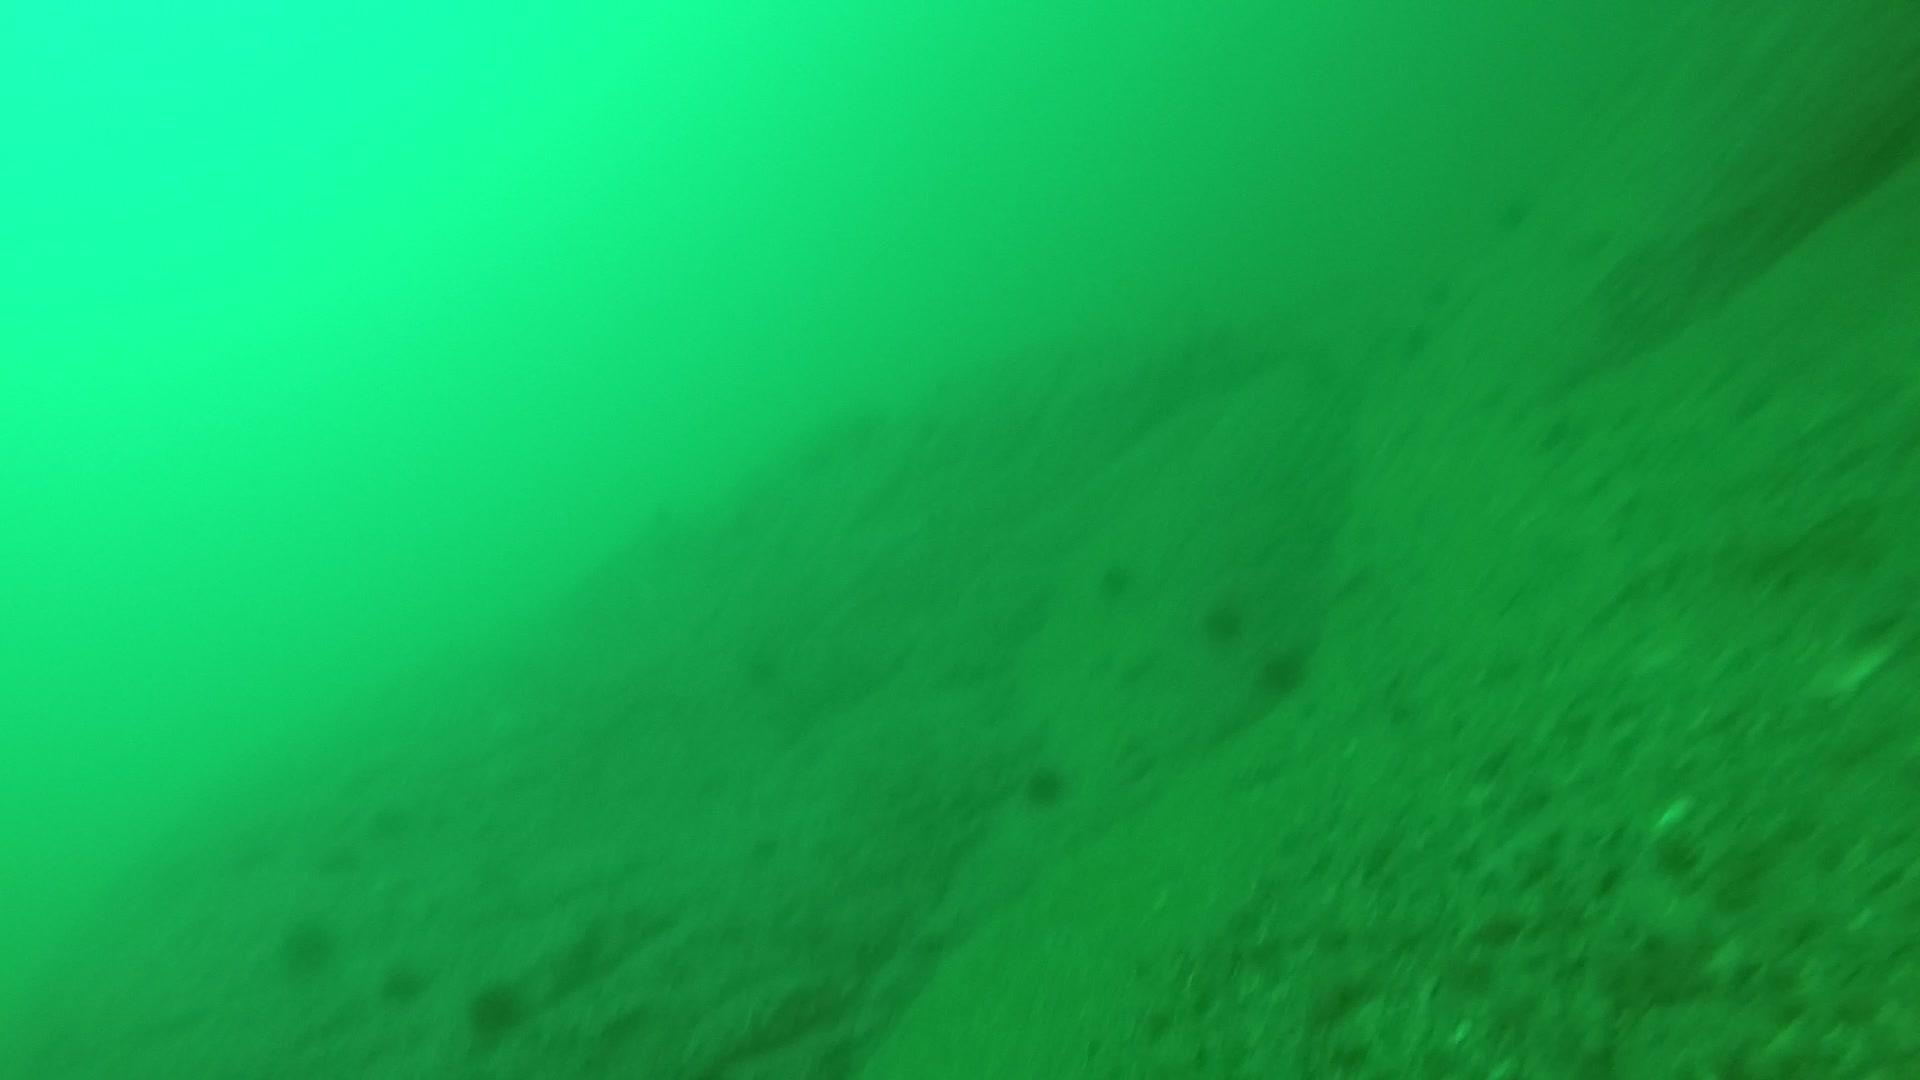echinus: (462, 975, 531, 1042), (273, 913, 342, 978), (1253, 642, 1313, 699), (376, 955, 433, 1007), (1018, 758, 1075, 810), (1197, 593, 1249, 647), (1095, 555, 1138, 603)
